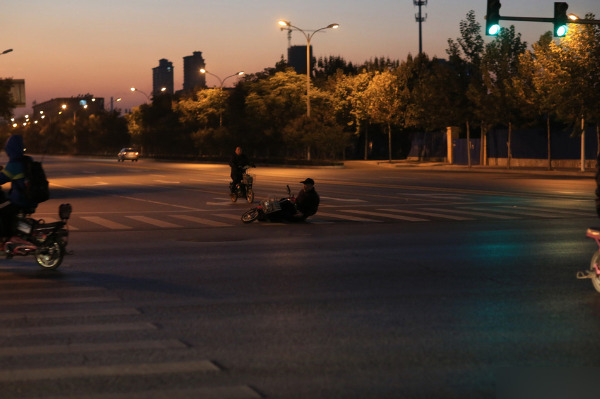fall: (245, 170, 328, 231)
